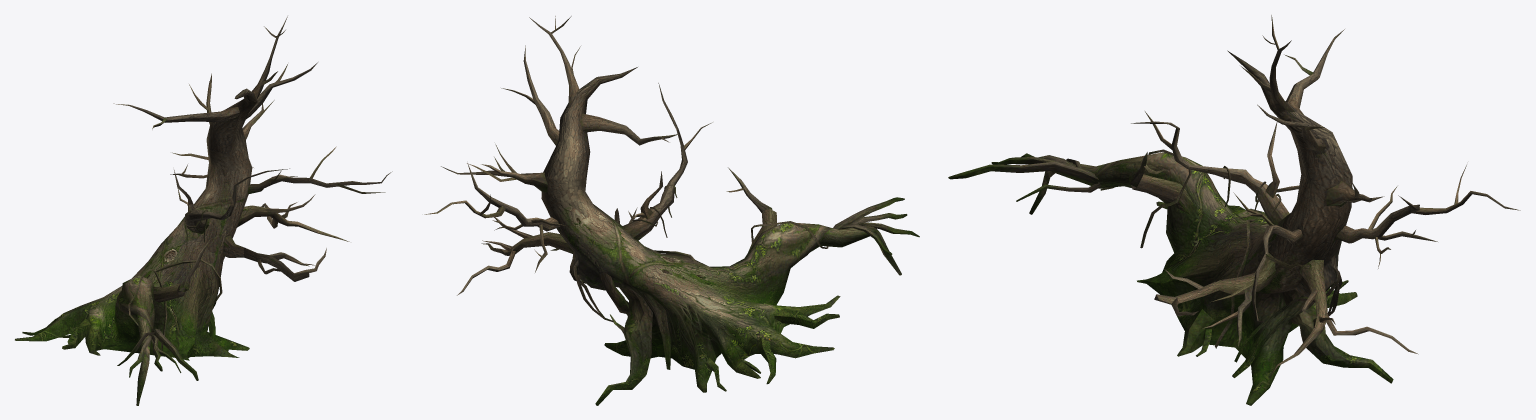
The model's file is zz_shu_4.FBX.
3 renders of one model, left to right at view 1: azimuth 30°, elevation 25°; view 2: azimuth 150°, elevation 25°; view 3: azimuth 270°, elevation 25°, orthographic. The views are drawn at different scales.
Parts seen in each view (by area): view 1: zz_shu_4; view 2: zz_shu_4; view 3: zz_shu_4.
Boxes of the visible parts, box(x1,y1,x2,y2) form: zz_shu_4: box(15, 16, 392, 405); zz_shu_4: box(424, 16, 919, 405); zz_shu_4: box(948, 15, 1520, 405).
Bounding box in the file's own units: 3169 × 2566 × 3227.
